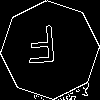F: (25, 25, 59, 73)
